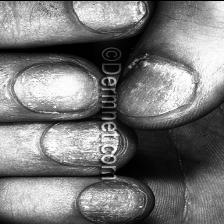Toxin: (123, 64, 193, 112), (21, 68, 88, 110), (80, 186, 138, 222), (47, 125, 95, 162), (86, 0, 147, 19)
